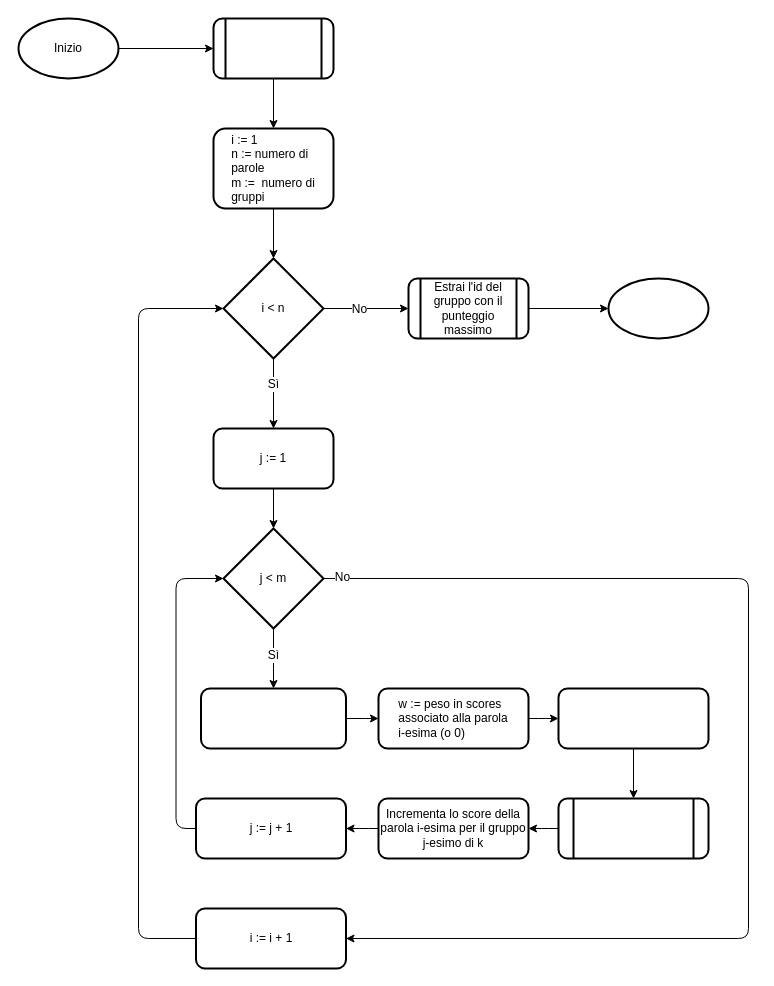
Image size: 774x986. Some labels were removed from this diagram. Each missing label, with the centre of its shape:
"Aumenta di w il punteggio del gruppo j-esimo" belongs at point (633, 718).
"Estrai parole dal ticket" belongs at point (273, 48).
"Fine" belongs at point (658, 308).
"id := id del gruppo j scores := punteggi del gruppo j" belongs at point (273, 718).
"k := WeightUpdate(w)" belongs at point (633, 828).
